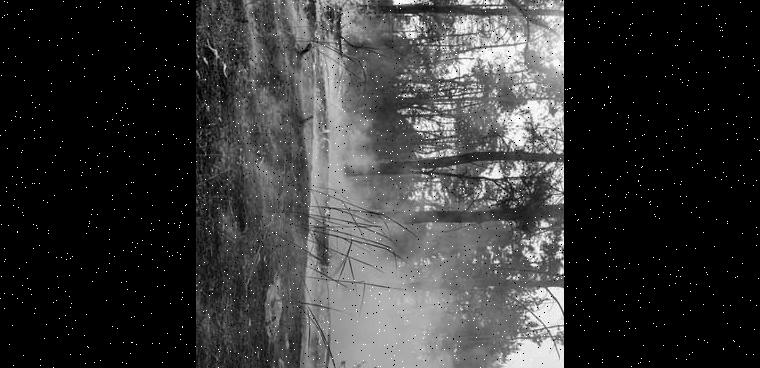fire: (313, 0, 383, 47)
